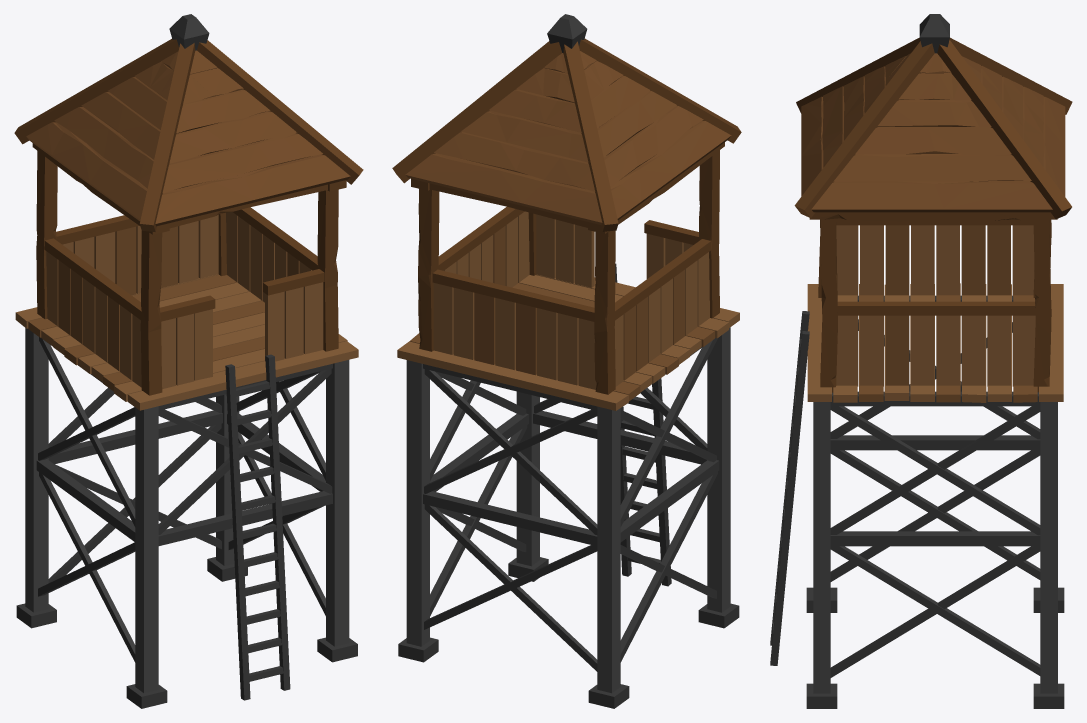
The model's file is Tower_01.fbx.
3 renders of one model, left to right at view 1: azimuth 30°, elevation 25°; view 2: azimuth 150°, elevation 25°; view 3: azimuth 270°, elevation 25°, orthographic. The views are drawn at different scales.
Visible parts, largest first — view 1: Tower_01; view 2: Tower_01; view 3: Tower_01.
Boxes of the visible parts, x1,y1,x2,y2 form: Tower_01: (14, 14, 363, 708); Tower_01: (392, 14, 741, 708); Tower_01: (770, 14, 1072, 708).
Bounding box in the file's own units: 297 × 777 × 333.
